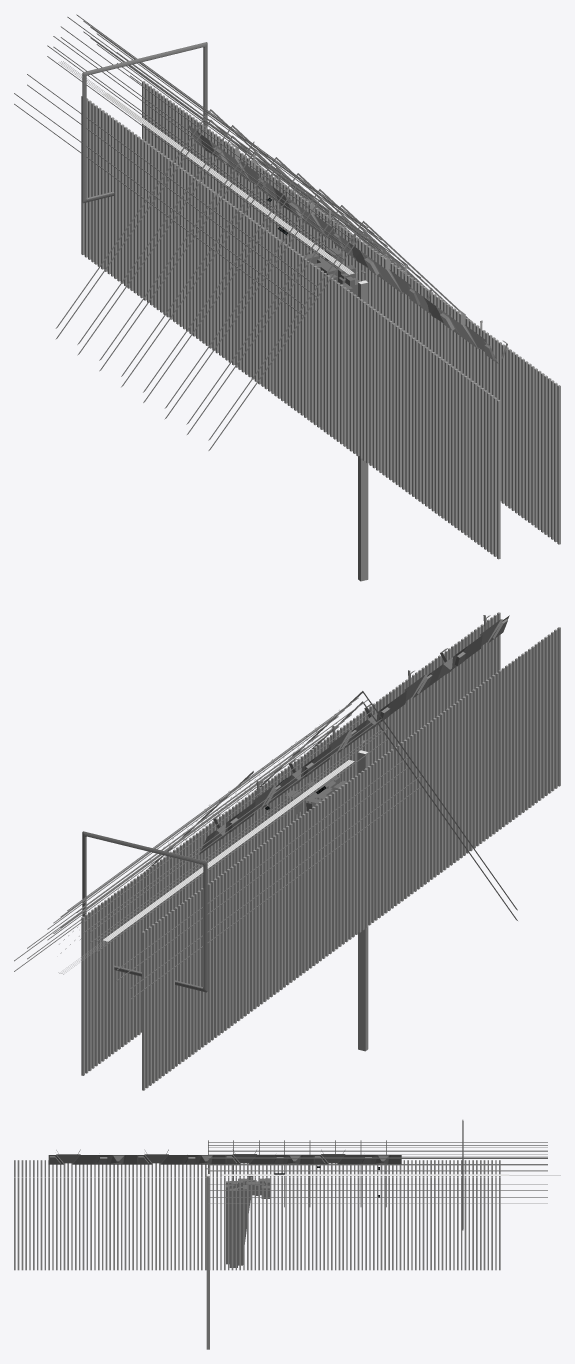
Rendered from dragons.glb.
The picture shows the model from 3 angles, top to bottom: view 1: azimuth 30°, elevation 25°; view 2: azimuth 150°, elevation 25°; view 3: azimuth 270°, elevation 25°; orthographic projection. The views are drawn at different scales.
Visible parts, largest first — view 1: Spectrogram0 (×2), Spectrogram1 (×2), HallConstruction, Ring, Construction, TrackMirror, Underground, TrackConstruction; view 2: Spectrogram1 (×2), Spectrogram0 (×2), HallConstruction, Ring, TrackMirror, Construction, TrackConstruction, Underground; view 3: Spectrogram0 (×2), Spectrogram1 (×2), HallConstruction, Underground, Construction, TrackMirror.
Boxes of the visible parts, x1=… form: Spectrogram0 (×2): x1=290, y1=234, x2=560, y2=559; Spectrogram1 (×2): x1=81, y1=81, x2=351, y2=405; HallConstruction: x1=14, y1=14, x2=507, y2=450; Ring: x1=82, y1=42, x2=207, y2=203; Construction: x1=358, y1=282, x2=368, y2=581; TrackMirror: x1=102, y1=93, x2=354, y2=274; Underground: x1=301, y1=248, x2=359, y2=296; TrackConstruction: x1=58, y1=61, x2=357, y2=275; Spectrogram1 (×2): x1=81, y1=765, x2=351, y2=1090; Spectrogram0 (×2): x1=291, y1=612, x2=560, y2=937; HallConstruction: x1=14, y1=615, x2=517, y2=999; Ring: x1=82, y1=831, x2=207, y2=992; TrackMirror: x1=103, y1=760, x2=354, y2=941; Construction: x1=358, y1=752, x2=368, y2=1051; TrackConstruction: x1=58, y1=759, x2=354, y2=974; Underground: x1=285, y1=776, x2=347, y2=815; Spectrogram0 (×2): x1=14, y1=1160, x2=255, y2=1270; Spectrogram1 (×2): x1=258, y1=1160, x2=500, y2=1270; HallConstruction: x1=48, y1=1140, x2=547, y2=1207; Underground: x1=226, y1=1174, x2=269, y2=1267; Construction: x1=206, y1=1176, x2=209, y2=1349; TrackMirror: x1=221, y1=1174, x2=509, y2=1175.
Size of the model in its own units: 124 by 138 by 322.
14 materials, 3 textured.
